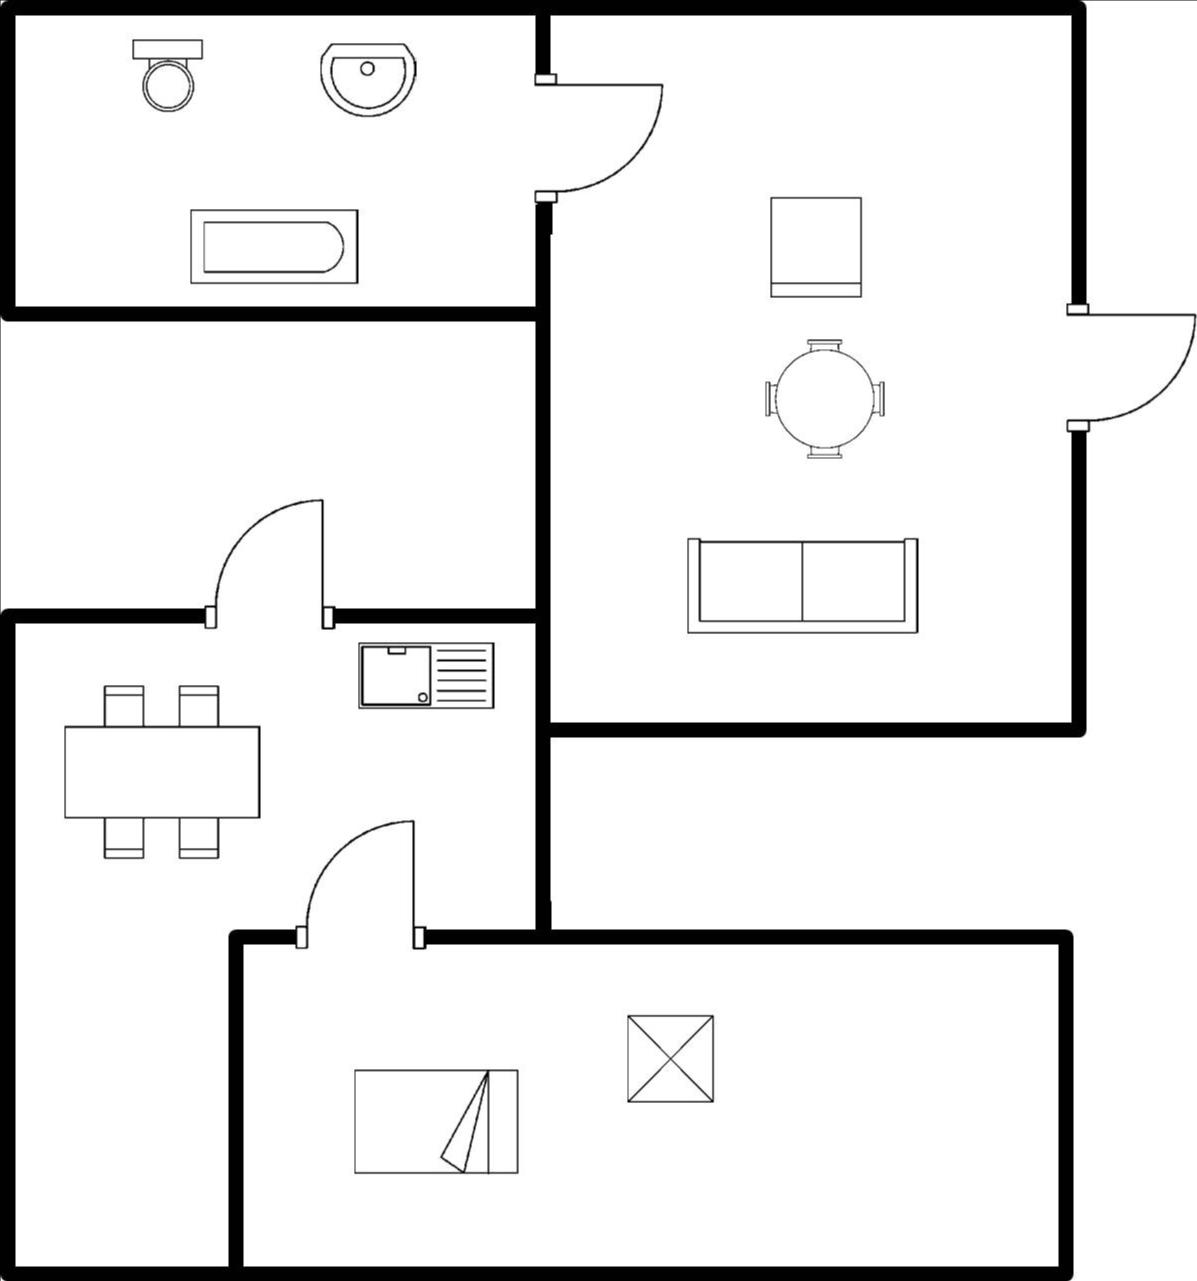bed: (346, 1053, 530, 1189)
dining_table: (54, 669, 278, 864)
round_table: (754, 330, 894, 467)
sink: (349, 634, 503, 718)
sofa: (665, 525, 928, 646)
toilet: (125, 29, 218, 117)
tub: (183, 200, 372, 294)
